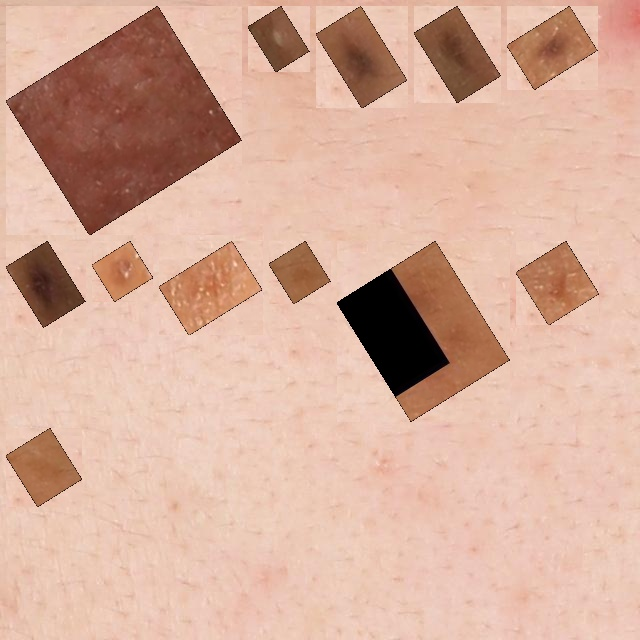hypertrophic_scar: (17, 17, 231, 224)
melasma: (348, 252, 499, 410), (170, 252, 251, 324), (527, 252, 588, 314), (17, 439, 71, 495), (280, 252, 319, 293)
nevus: (327, 17, 396, 97), (425, 17, 490, 92), (518, 17, 586, 78), (17, 252, 74, 316), (103, 252, 142, 290)
pustule: (259, 17, 298, 61)
